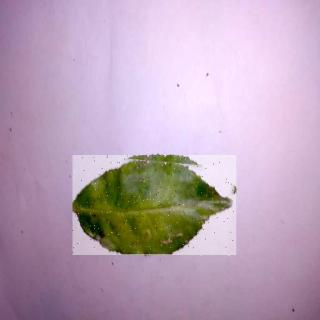Bird Eye Spot: (74, 157, 238, 257)
